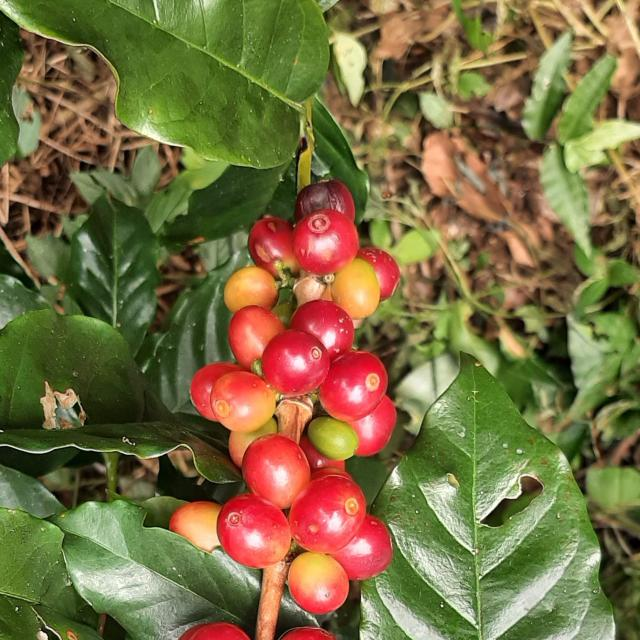green: (331, 257, 381, 319), (308, 417, 359, 461)
red: (320, 352, 388, 422), (262, 330, 330, 397), (293, 209, 359, 275), (290, 300, 355, 361), (349, 396, 397, 457), (295, 178, 355, 222)
yellow: (210, 372, 276, 432), (288, 553, 349, 615), (169, 502, 222, 553), (224, 265, 279, 313)
